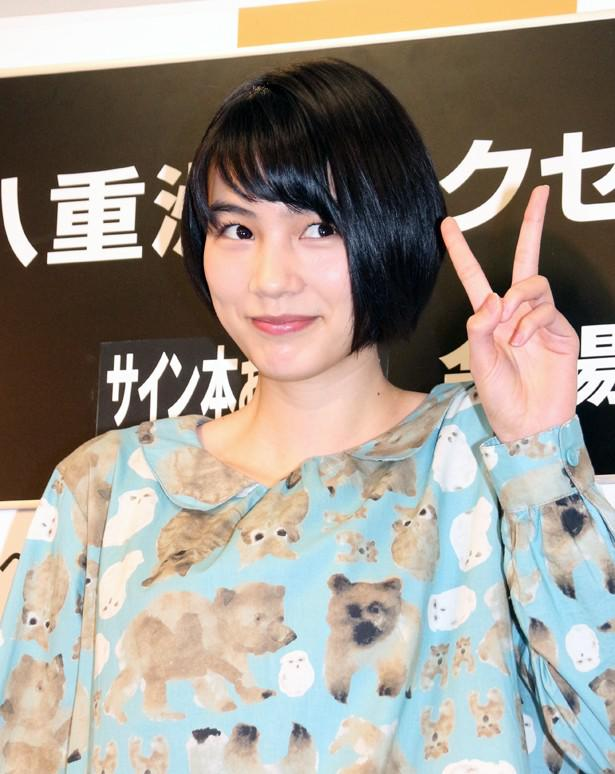face: (207, 152, 355, 379)
hand: (440, 184, 580, 440)
